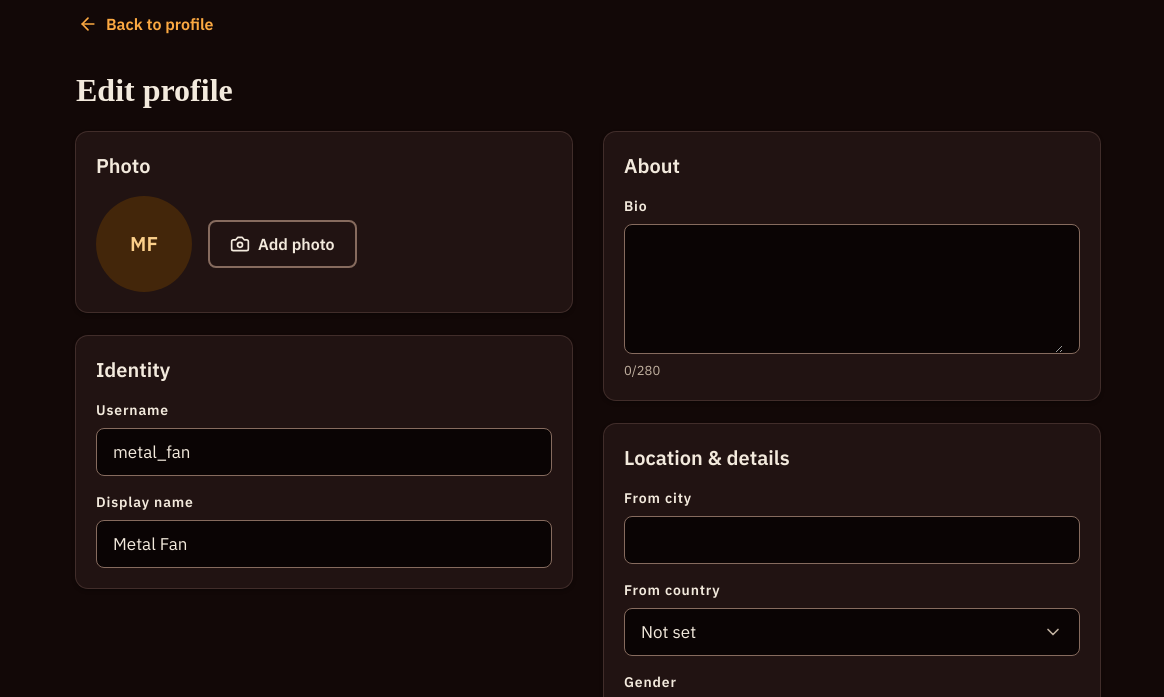
Scenario: 400 with fields uses client wording, never server text, and focuses the field
Type "x" into the field labelled "Display name".
click(324, 544); type("x")  # box [113,531,535,557]
(page scrolled)
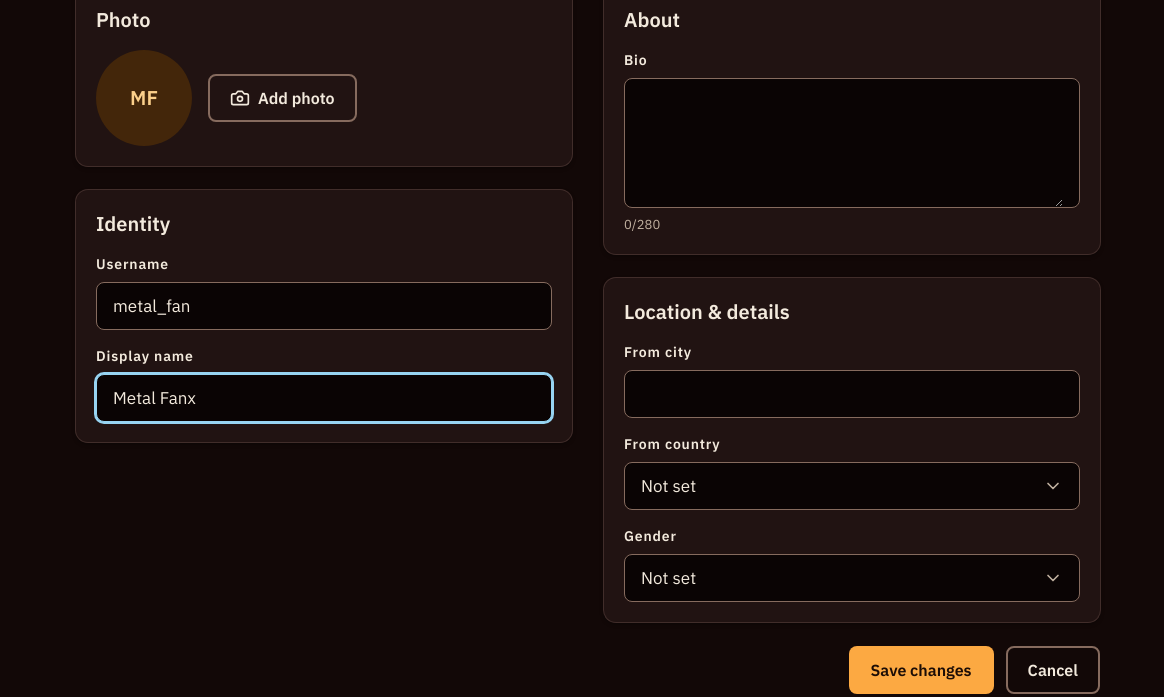
Click the button "Save changes".
click(921, 670)  # box [849,646,994,694]
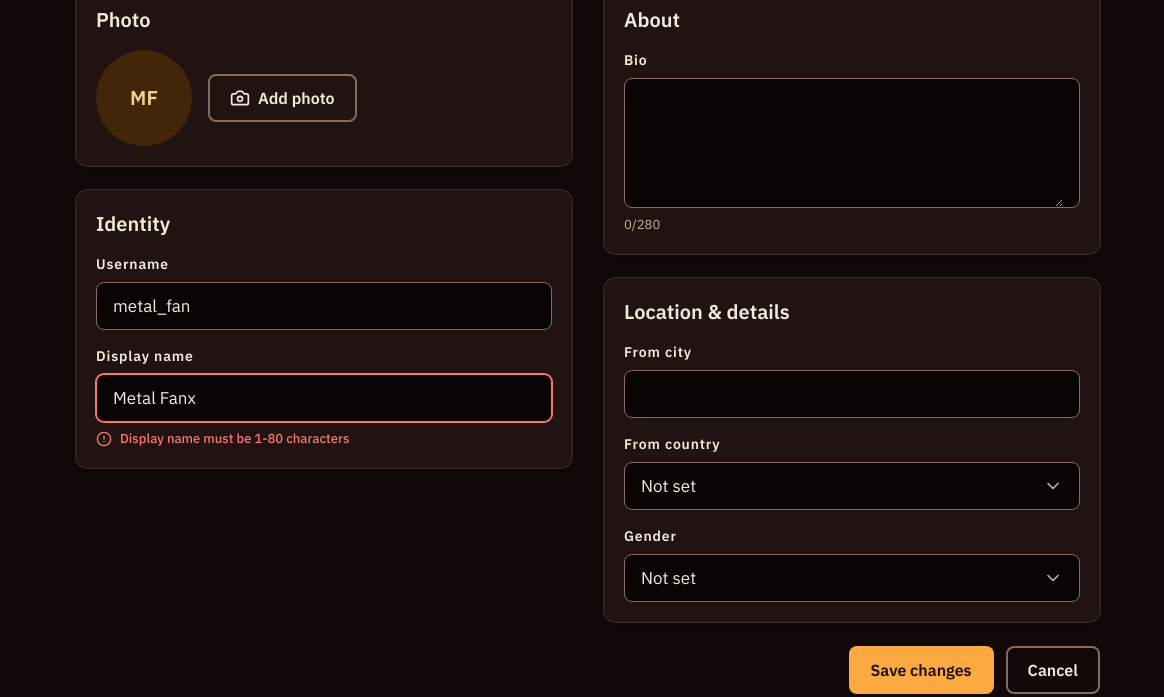
Check: the text "Display name must be 1-80 characters" is shown, box [120,430,349,448]
